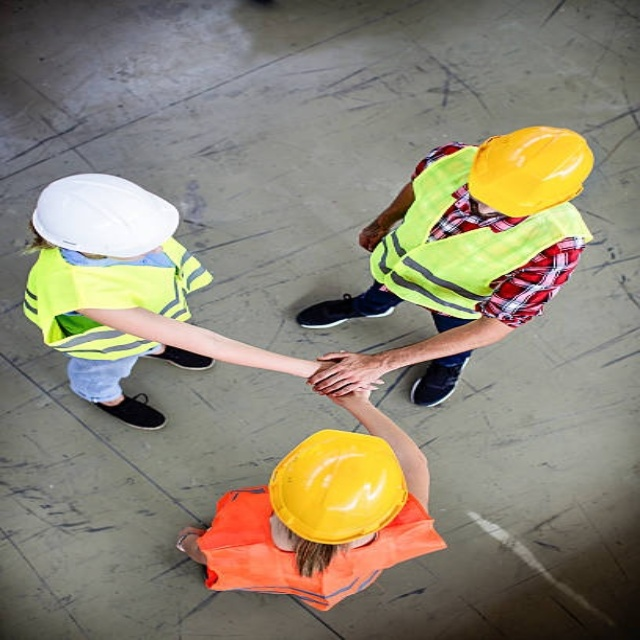Sin_guantes: (306, 350, 395, 398), (358, 220, 390, 253)
